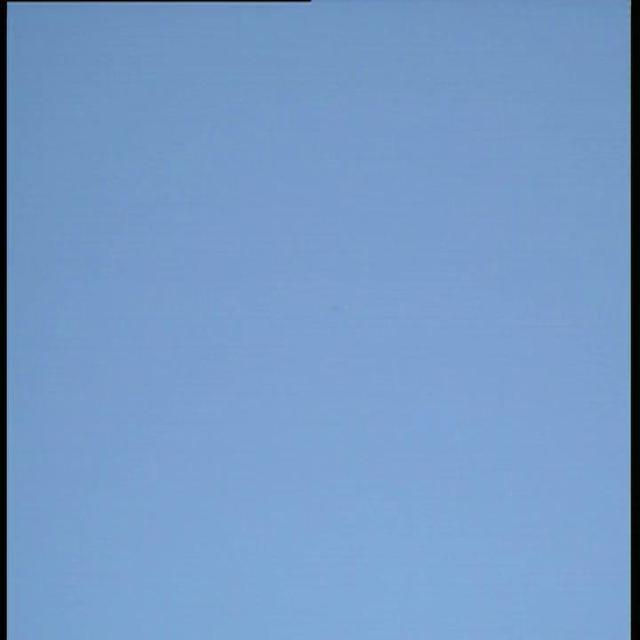drone: (321, 293, 354, 318)
